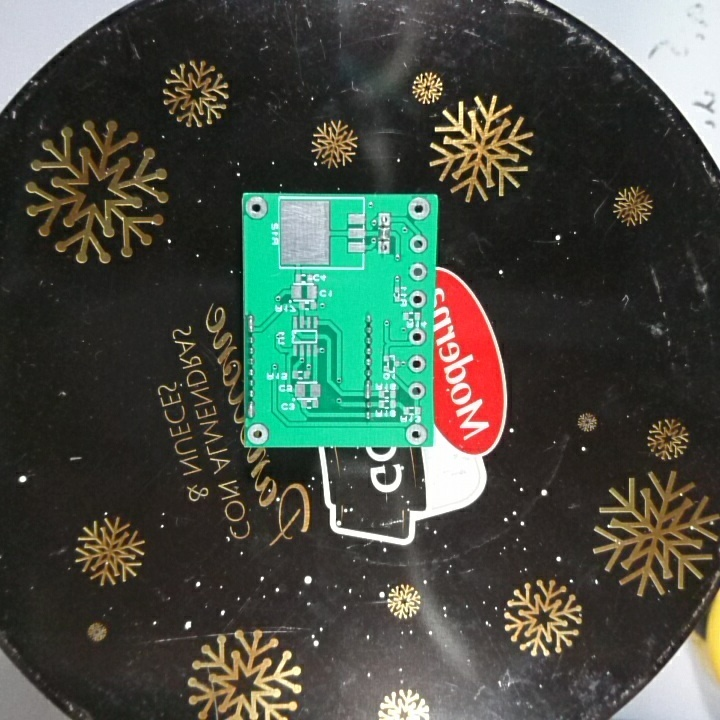F: (405, 194, 433, 226), (245, 194, 269, 226), (404, 418, 428, 448), (407, 260, 430, 286), (407, 286, 428, 314), (407, 232, 429, 258), (245, 423, 272, 443), (407, 379, 429, 403), (408, 326, 428, 349), (407, 354, 427, 375), (376, 210, 393, 228), (376, 238, 388, 248)
P: (245, 311, 258, 336), (363, 379, 376, 402), (245, 400, 259, 420)
